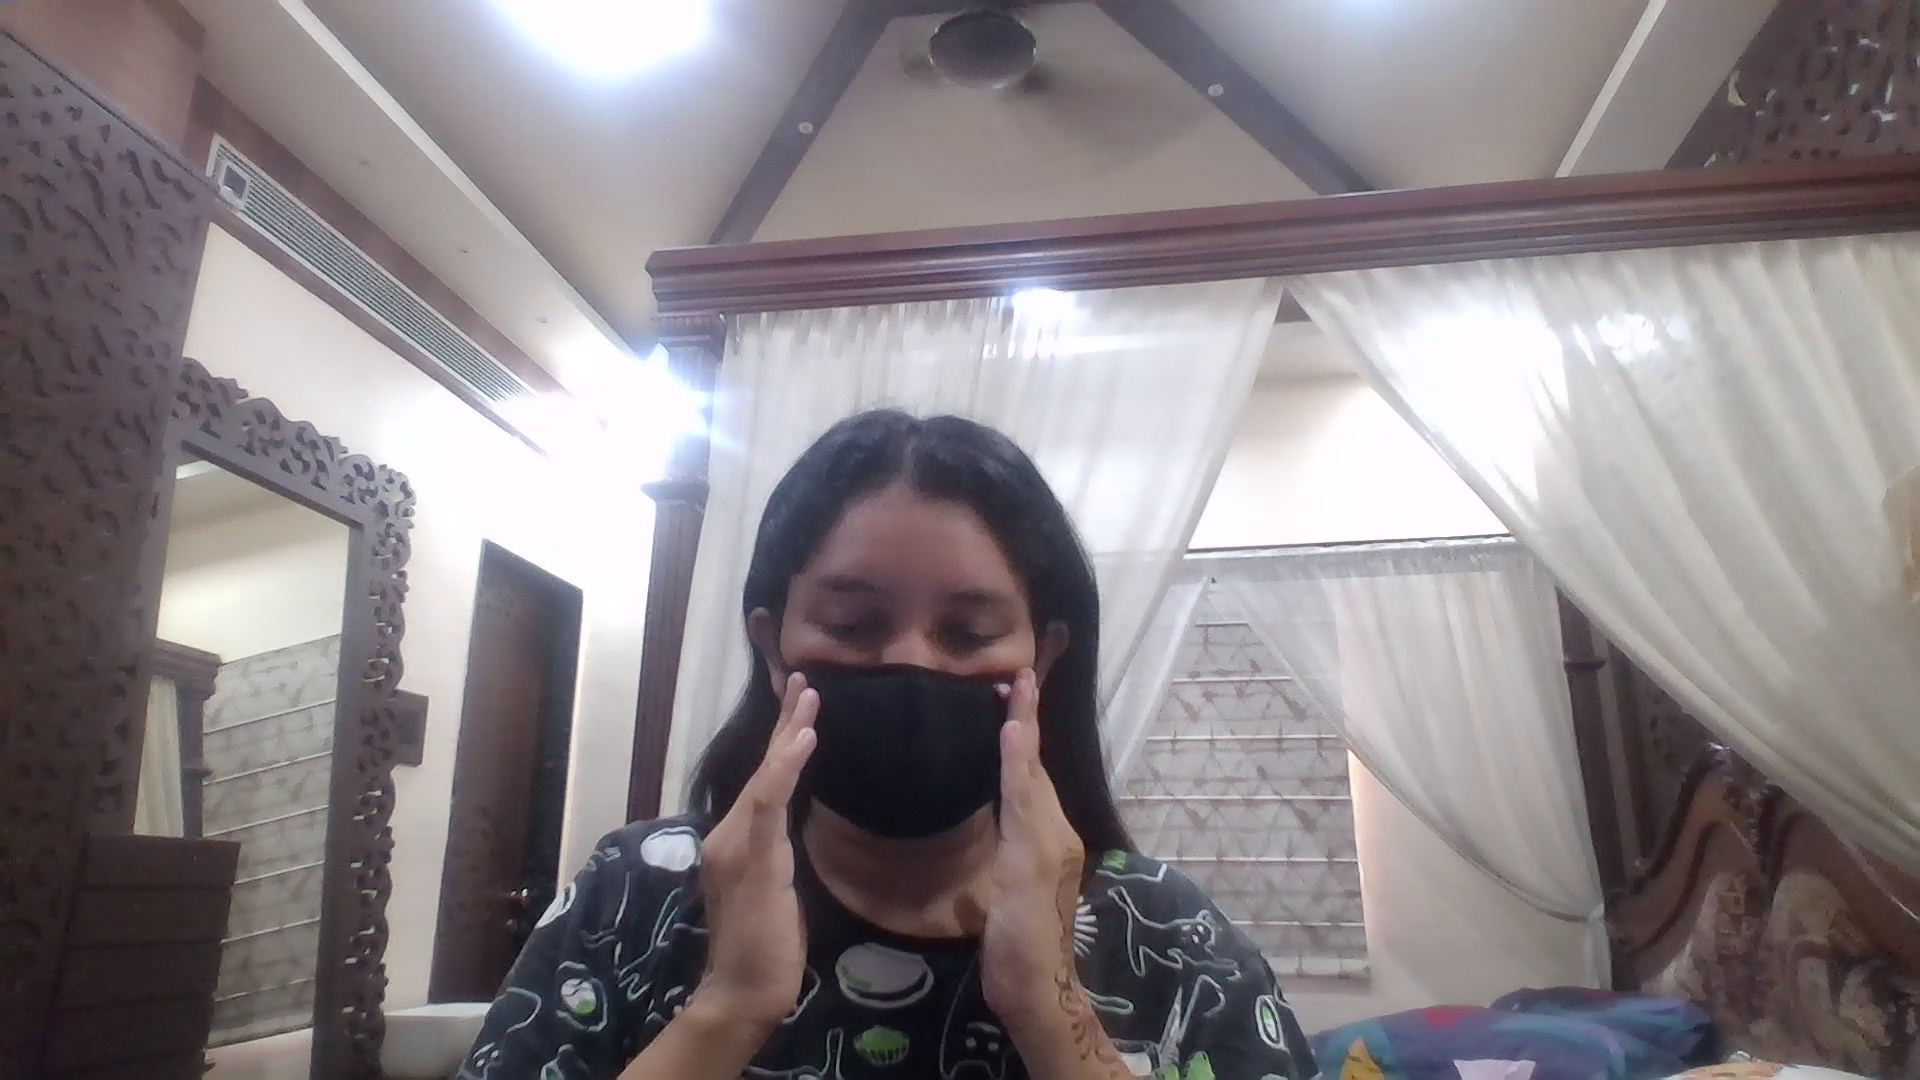Mask: (793, 658, 1042, 836)
